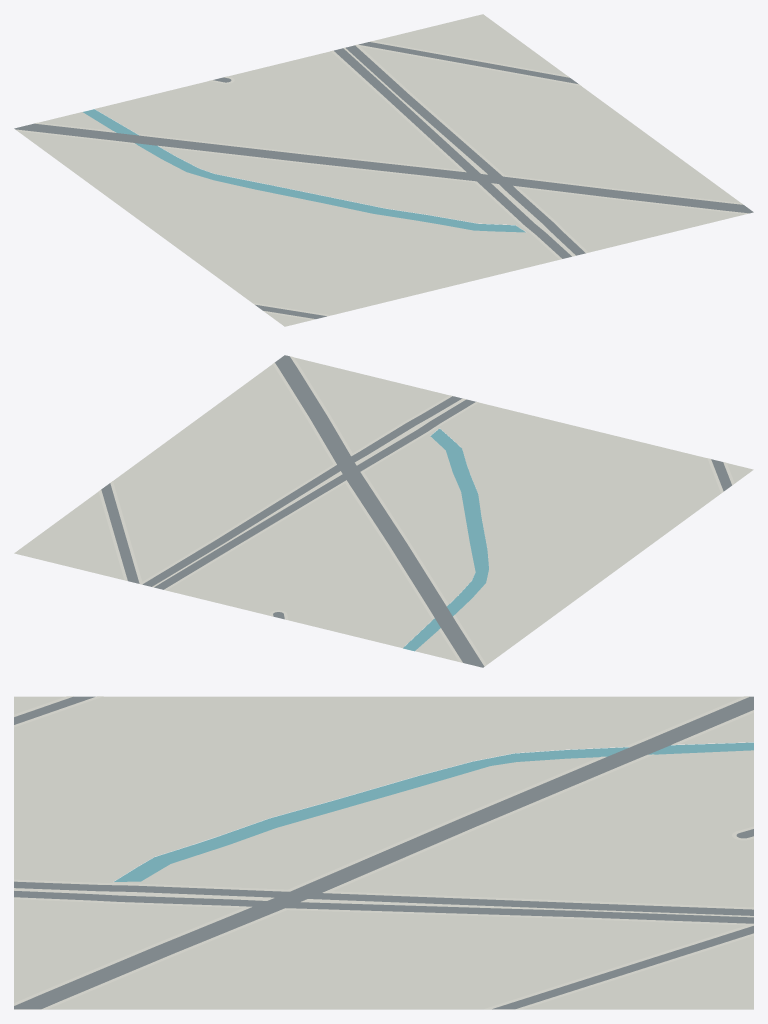
The picture shows the model from 3 angles, top to bottom: view 1: azimuth 30°, elevation 25°; view 2: azimuth 150°, elevation 25°; view 3: azimuth 270°, elevation 25°; orthographic projection. The views are drawn at different scales.
Parts seen in each view (by area): view 1: city; view 2: city; view 3: city.
Part boxes in pixels (x1=…): city: x1=14, y1=14, x2=753, y2=326; city: x1=14, y1=355, x2=753, y2=667; city: x1=14, y1=696, x2=753, y2=1009.
Bounding box in the file's own units: 500 × 0.4 × 500.
